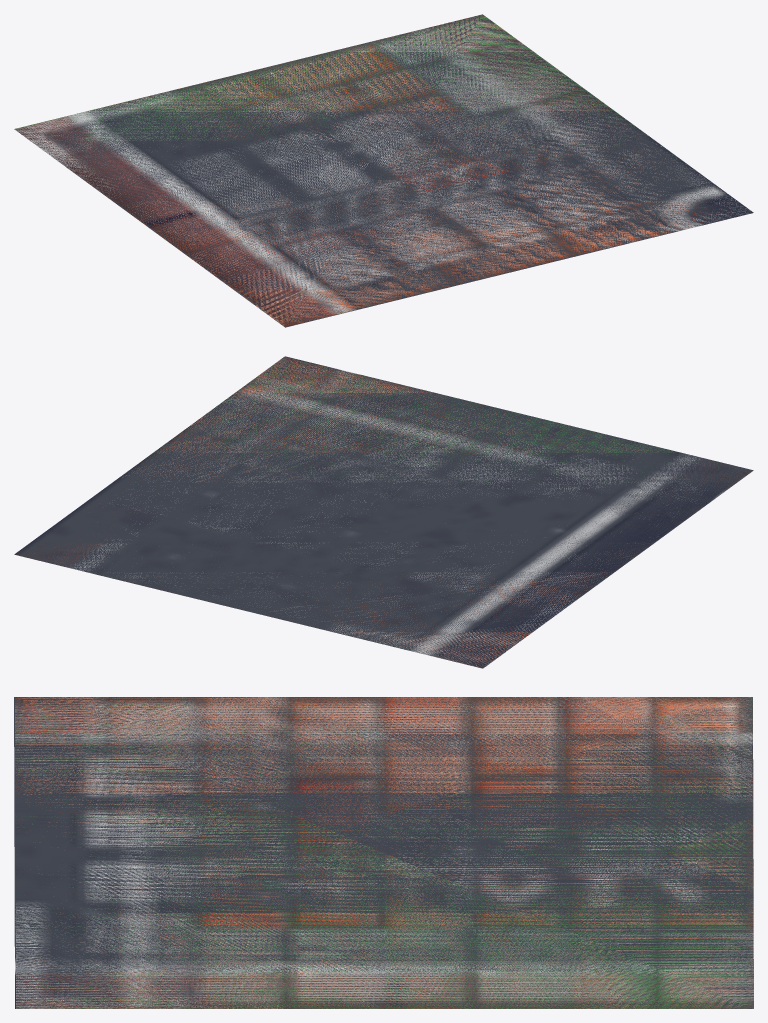
File: tiles (1).fbx
The picture shows the model from 3 angles, top to bottom: view 1: azimuth 30°, elevation 25°; view 2: azimuth 150°, elevation 25°; view 3: azimuth 270°, elevation 25°; orthographic projection. The views are drawn at different scales.
Visible parts, largest first — view 1: env_tiles_ (×18), env_tiles_stop_red, env_tiles_4way_red_01; view 2: env_tiles_ (×15), env_tiles_stop_red; view 3: env_tiles_ (×21), env_tiles_stop_red, env_tiles_4way_red_01.
Boxes of the visible parts, x1,y1,x2,y2 form: env_tiles_ (×18): (14,14,753,327); env_tiles_stop_red: (94,15,703,326); env_tiles_4way_red_01: (314,20,748,263); env_tiles_ (×15): (14,356,753,668); env_tiles_stop_red: (162,359,749,665); env_tiles_ (×21): (14,697,753,1008); env_tiles_stop_red: (16,706,753,1008); env_tiles_4way_red_01: (15,697,752,954).
Bounding box in the file's own units: 118 × 7.95e-06 × 118.
